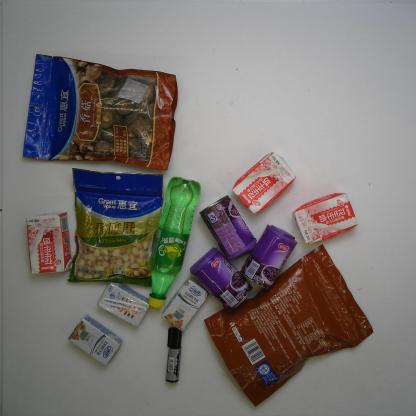Canned Food: (188, 247, 253, 313), (198, 194, 258, 263), (239, 222, 298, 292)
Dried Food: (203, 243, 375, 409), (20, 52, 179, 172)
Dried Fruit: (66, 167, 164, 288)
Drink: (146, 175, 202, 310)
Milk: (232, 150, 298, 216), (292, 191, 359, 247), (25, 210, 73, 276), (67, 314, 124, 368), (161, 276, 210, 333), (96, 281, 150, 329)
Stationery: (165, 327, 183, 384)
